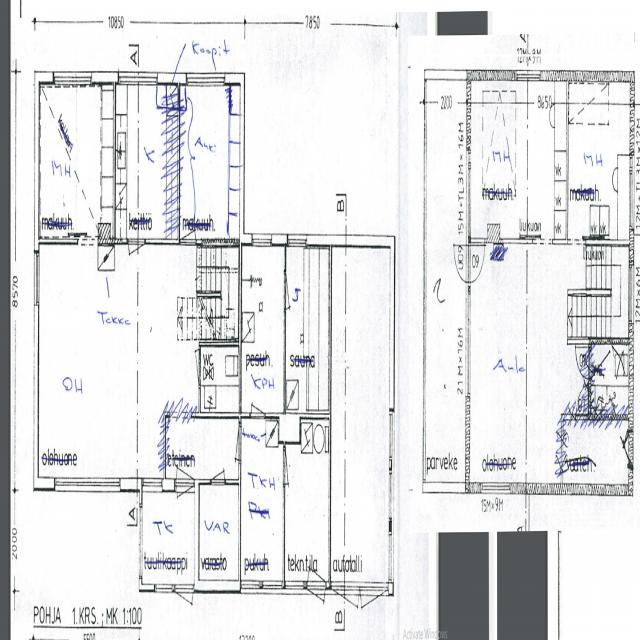door: (360, 580, 388, 640), (333, 580, 360, 640), (176, 435, 194, 493), (176, 479, 194, 536), (308, 580, 325, 638), (175, 585, 193, 639), (308, 536, 325, 593), (128, 238, 144, 286), (614, 430, 634, 468), (180, 200, 196, 245), (466, 245, 485, 282), (452, 245, 471, 282), (283, 275, 300, 309), (211, 445, 225, 486), (251, 379, 265, 419), (226, 427, 242, 461), (283, 451, 299, 484), (186, 352, 200, 384)
